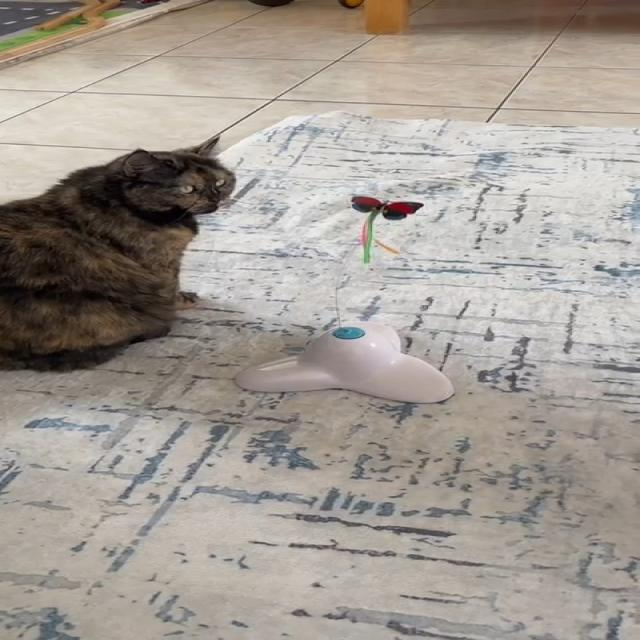authorized: (0, 134, 236, 372)
